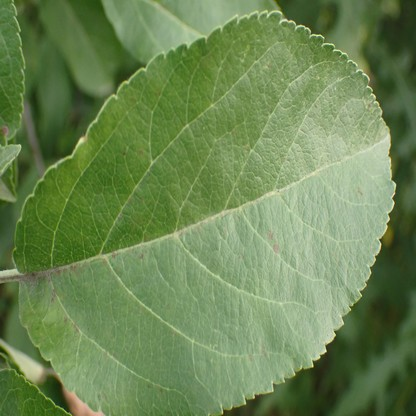frogeye_leaf_spot: (1, 126, 9, 136)
scab: (22, 274, 63, 323), (91, 333, 117, 363), (63, 307, 85, 340), (100, 251, 117, 275), (266, 229, 280, 257), (132, 245, 149, 265), (70, 260, 88, 278), (259, 340, 271, 359), (245, 345, 254, 367), (355, 186, 363, 198)
